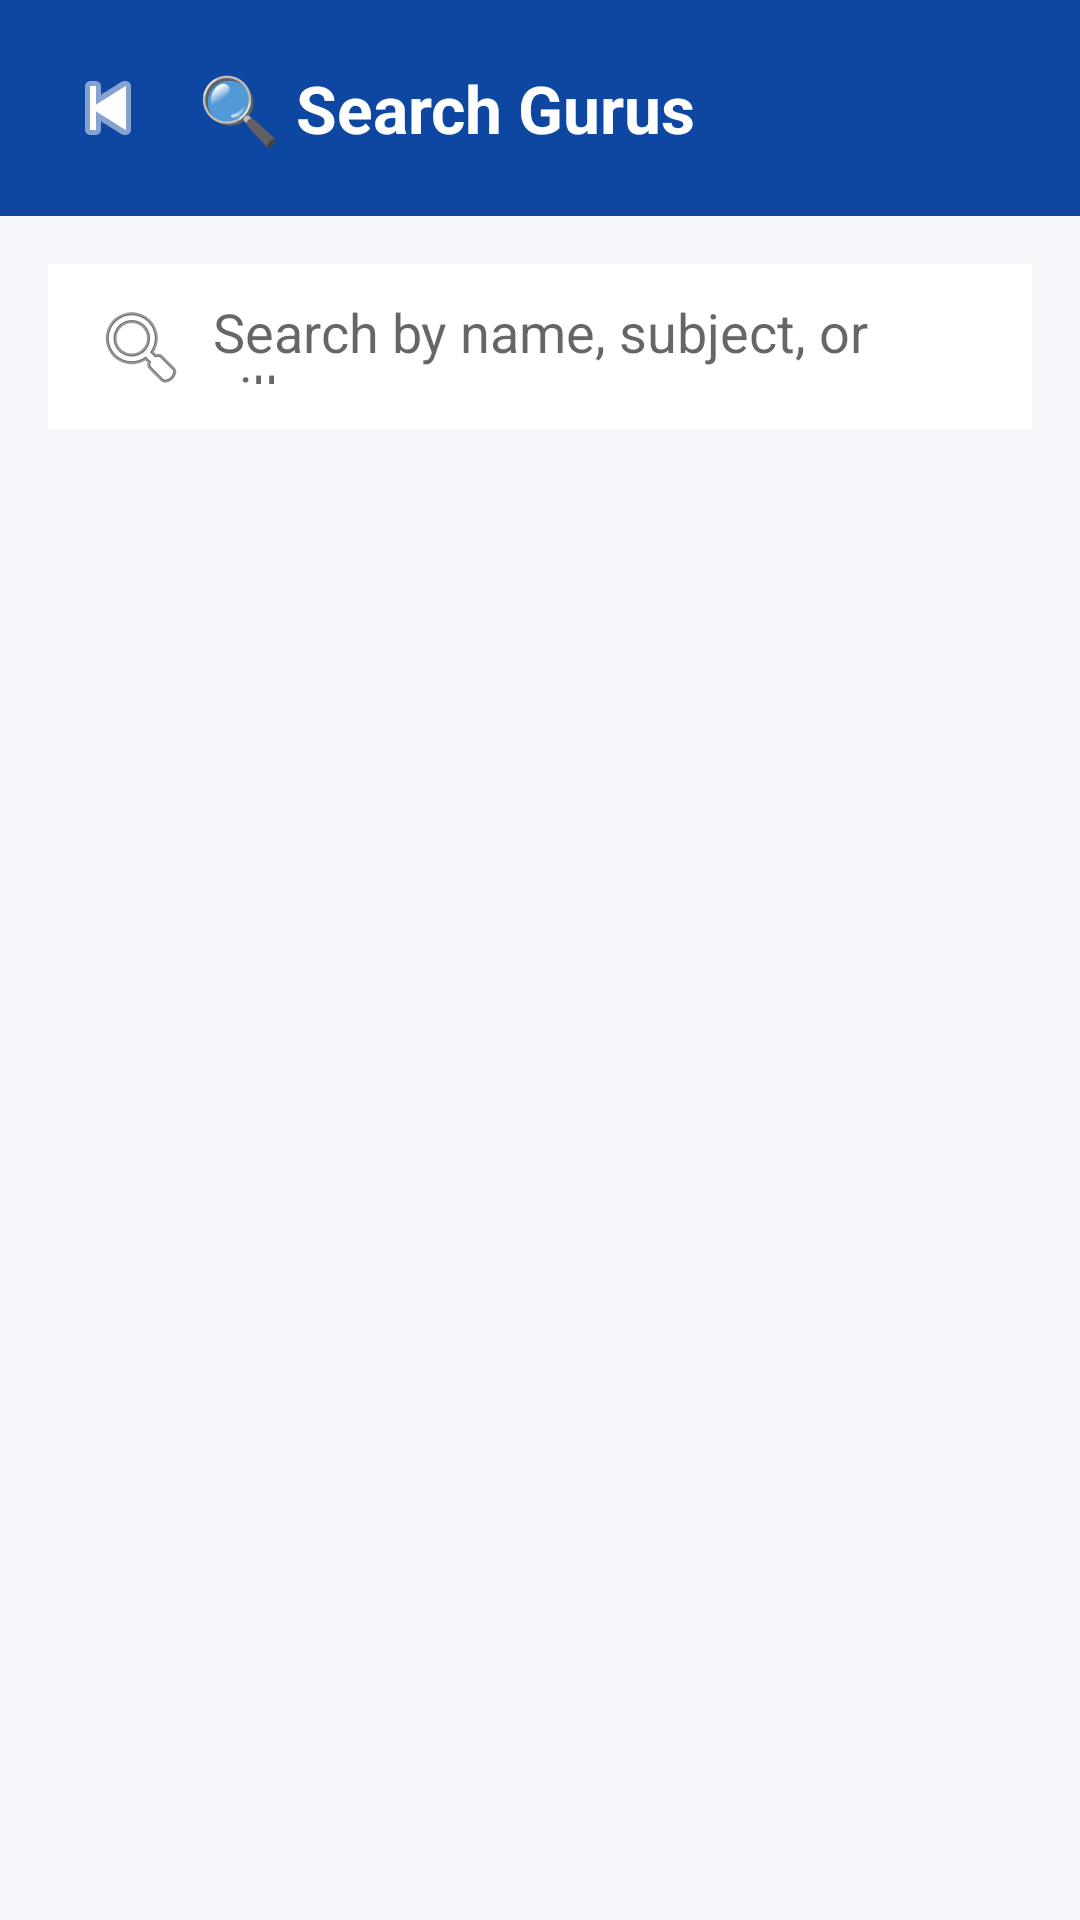

Icon click points for this 1080px×1920px phone screenshot, format point (x, y):
Back: point (108, 108)
